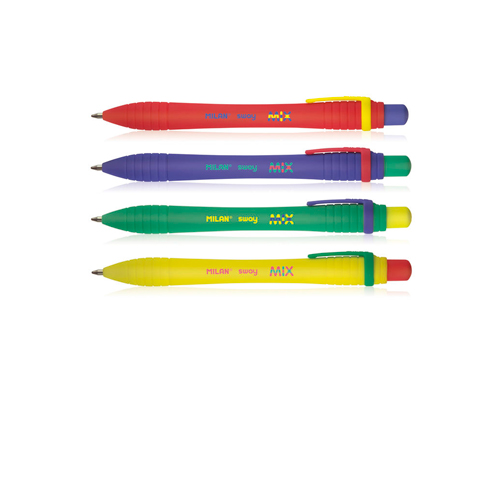Boligrafo: (89, 96, 410, 137), (90, 196, 411, 236), (89, 250, 414, 288), (90, 146, 413, 184)
